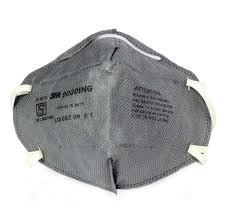flumask: (25, 45, 192, 183)
